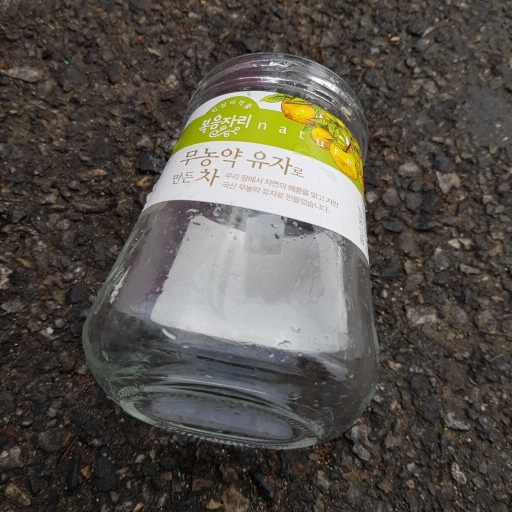Glass_5: (78, 54, 385, 446)
